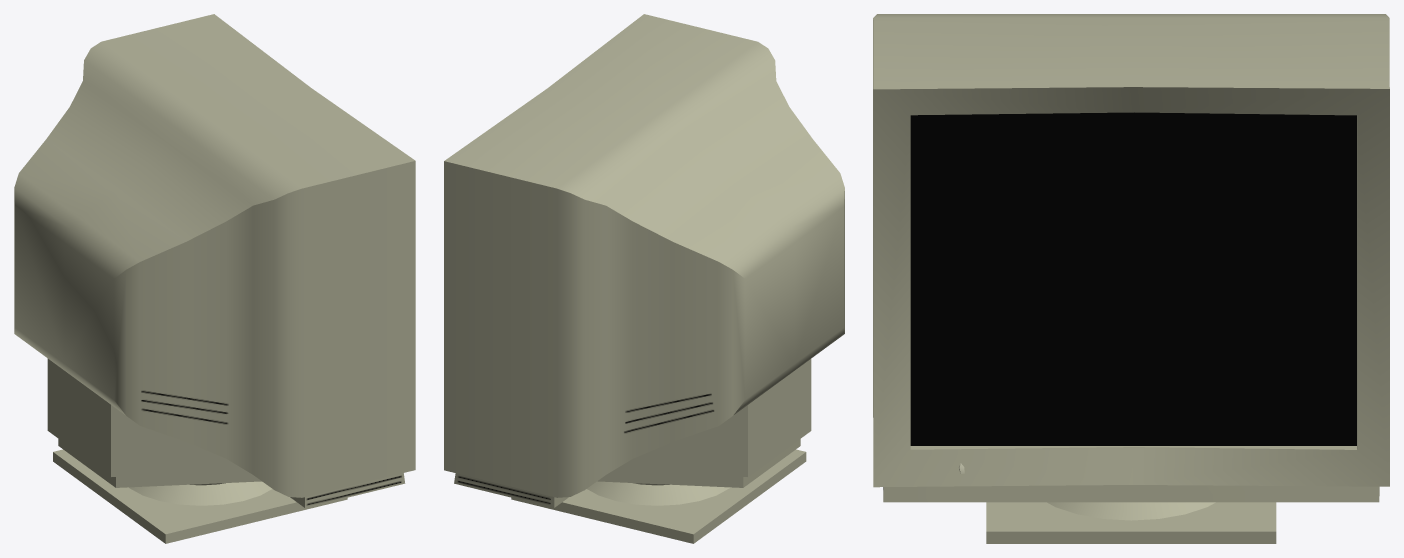
File: moni2.fbx
The picture shows the model from 3 angles, left to right: view 1: azimuth 30°, elevation 25°; view 2: azimuth 150°, elevation 25°; view 3: azimuth 270°, elevation 25°; orthographic projection. The views are drawn at different scales.
Parts seen in each view (by area): view 1: Cube; view 2: Cube; view 3: Cube.
Part boxes in pixels (x1,y1,x2,y2): Cube: (14,14,415,543); Cube: (444,14,844,543); Cube: (873,14,1389,543).
Size of the model in its own units: 157 by 219 by 218.
